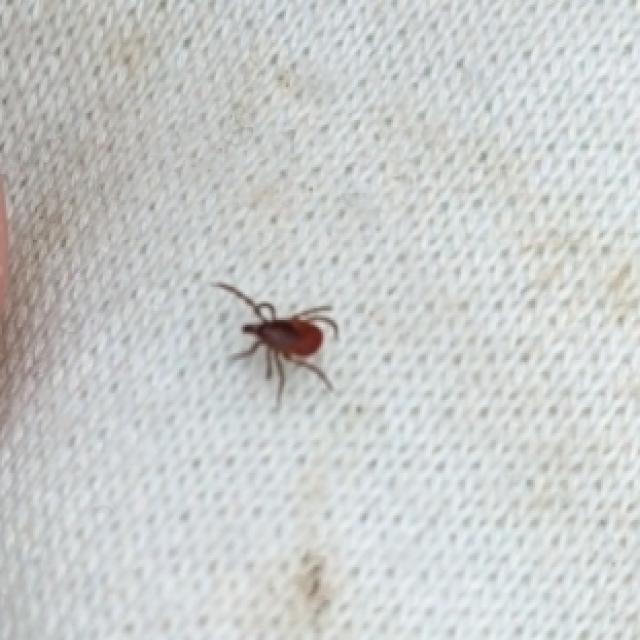Ixodes Ricinus-F: (220, 285, 340, 402)
